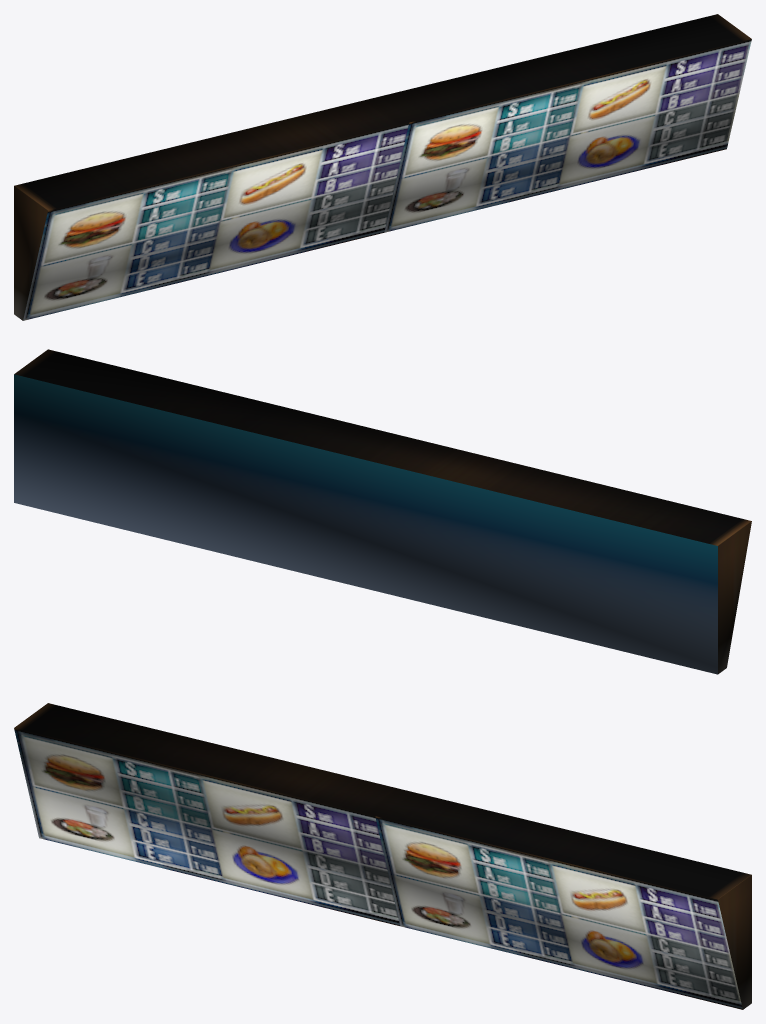
The model's file is a_SWIbooth01_c.glb.
3 renders of one model, top to bottom at view 1: azimuth 30°, elevation 25°; view 2: azimuth 150°, elevation 25°; view 3: azimuth 330°, elevation 25°, orthographic.
Visible parts, largest first — view 1: a_SWIbooth01_c; view 2: a_SWIbooth01_c; view 3: a_SWIbooth01_c.
Boxes of the visible parts, x1,y1,x2,y2 form: a_SWIbooth01_c: (14, 14, 751, 320); a_SWIbooth01_c: (14, 349, 751, 674); a_SWIbooth01_c: (14, 703, 751, 1009).
Bounding box in the file's own units: 3.89 × 0.6792 × 0.3262.
1 material, 1 textured.
